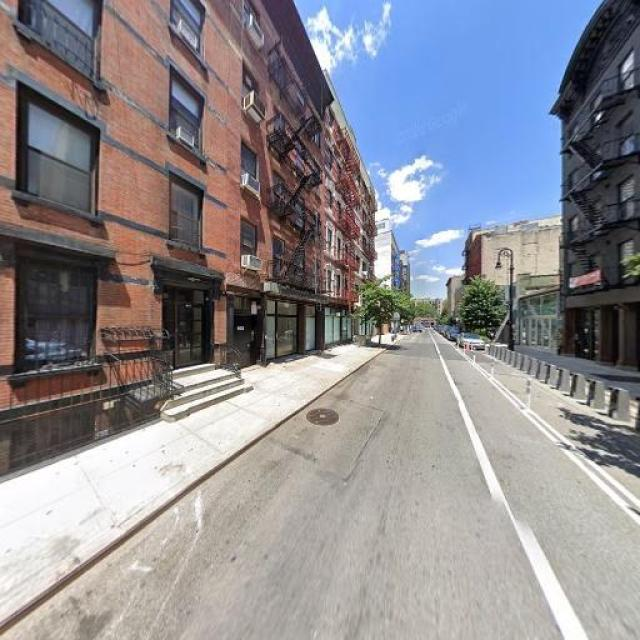Building: (1, 1, 232, 440), (234, 1, 370, 373), (565, 1, 640, 372)
